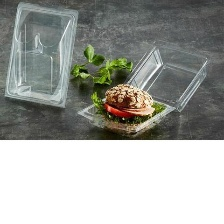plastic_box: (73, 34, 215, 139), (0, 0, 83, 112)
